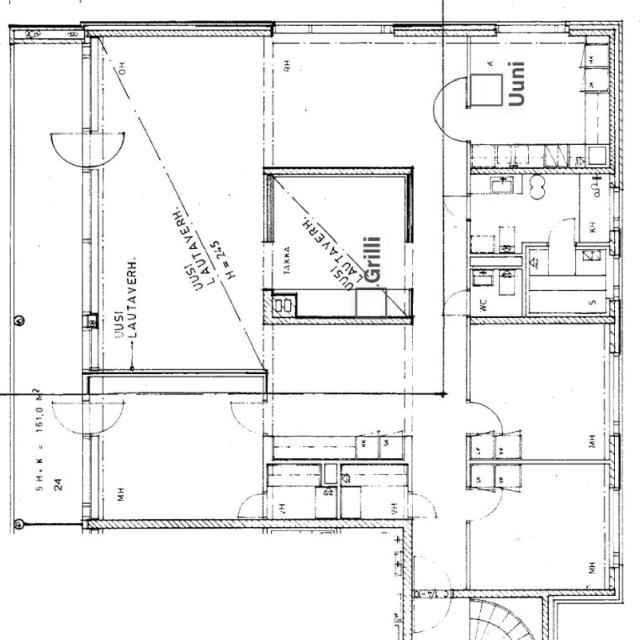door: (413, 554, 453, 599), (412, 595, 453, 634), (465, 486, 504, 522), (49, 398, 86, 434), (49, 131, 85, 167), (468, 400, 505, 435), (228, 400, 265, 434), (90, 131, 124, 166), (544, 214, 579, 247), (438, 75, 472, 108), (406, 491, 439, 521), (234, 490, 266, 520), (97, 401, 125, 433), (477, 621, 522, 640), (444, 289, 471, 315), (444, 195, 471, 219)
window: (600, 483, 627, 569), (599, 349, 625, 438), (76, 168, 102, 246), (79, 435, 101, 513), (493, 22, 570, 44), (592, 181, 622, 237), (526, 456, 608, 470), (607, 183, 625, 234), (259, 239, 276, 289), (606, 254, 624, 300), (401, 242, 417, 293), (271, 21, 317, 38)
zone: (268, 42, 440, 168), (97, 394, 265, 520), (448, 38, 611, 167), (466, 464, 614, 596), (470, 324, 610, 462), (308, 172, 407, 296), (267, 393, 406, 460), (526, 246, 616, 316), (338, 463, 409, 520), (469, 256, 523, 320), (579, 174, 614, 248), (265, 485, 320, 521), (468, 434, 522, 464), (266, 463, 323, 487), (468, 463, 502, 489)
